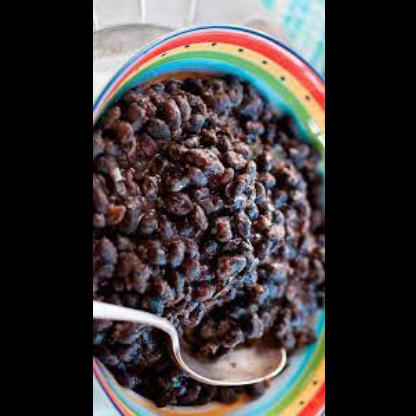black beans: (94, 74, 326, 408)
